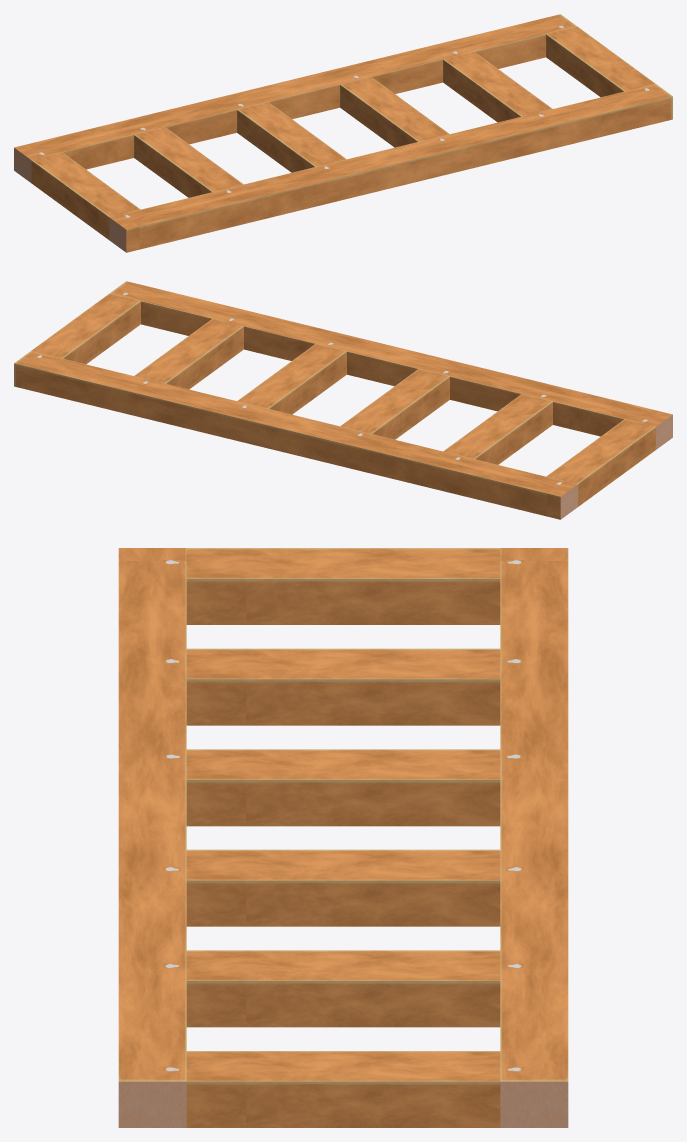
The model's file is LadderPlank_3.fbx.
3 renders of one model, top to bottom at view 1: azimuth 30°, elevation 25°; view 2: azimuth 150°, elevation 25°; view 3: azimuth 270°, elevation 25°, orthographic. The views are drawn at different scales.
Parts seen in each view (by area): view 1: LadderPlank_3; view 2: LadderPlank_3; view 3: LadderPlank_3.
Part boxes in pixels (x1,y1,x2,y2): LadderPlank_3: (14, 14, 672, 252); LadderPlank_3: (14, 281, 672, 519); LadderPlank_3: (118, 548, 568, 1127).
Size of the model in its own units: 2 by 0.0808 by 0.7122.
